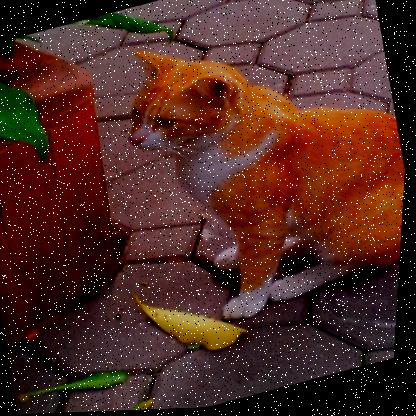cat: (54, 0, 415, 413)
